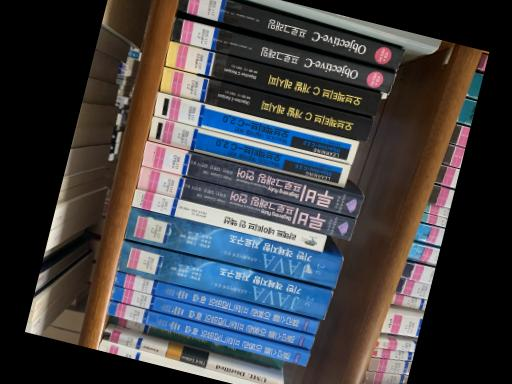book-spine: (123, 208, 342, 288), (170, 18, 395, 95), (140, 142, 363, 218), (115, 241, 331, 319), (158, 66, 372, 142), (164, 41, 380, 116), (135, 167, 355, 240), (175, 0, 404, 70), (147, 116, 350, 189), (153, 92, 358, 164), (106, 302, 308, 367), (113, 271, 317, 335), (110, 287, 313, 350), (130, 189, 325, 251), (107, 316, 283, 371), (100, 331, 281, 384), (276, 0, 440, 48)
